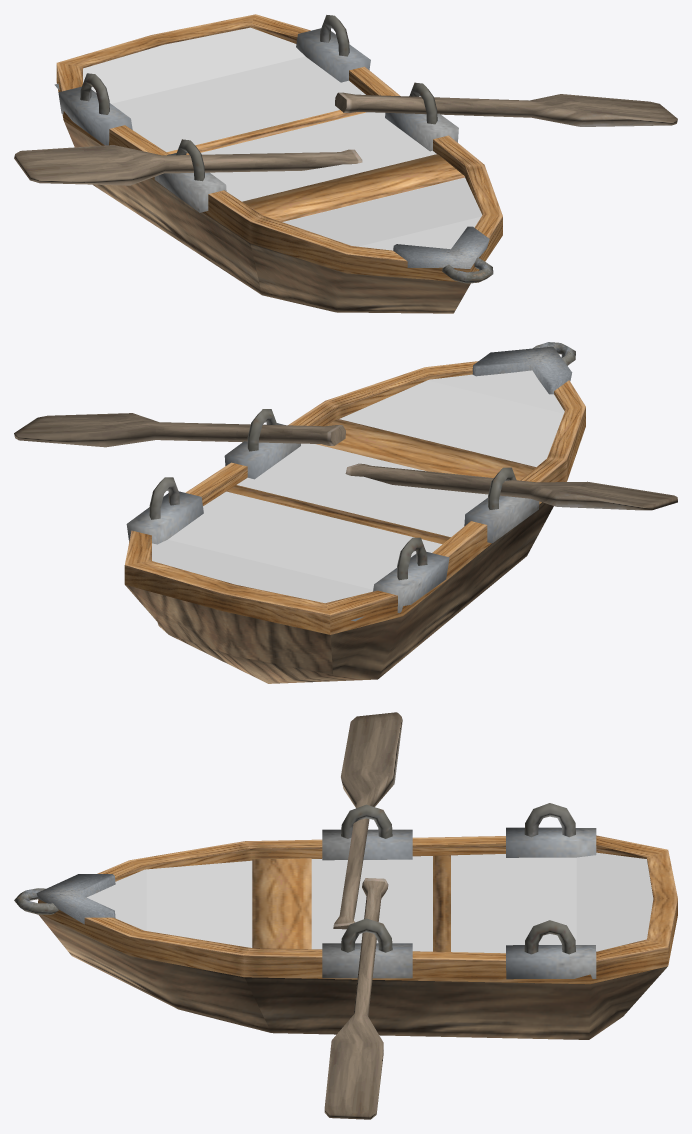
Rendered from RowBoat.fbx.
3 renders of one model, top to bottom at view 1: azimuth 30°, elevation 25°; view 2: azimuth 150°, elevation 25°; view 3: azimuth 270°, elevation 25°, orthographic. The views are drawn at different scales.
Visible parts, largest first — view 1: RowBoat, RowBoat_Depth; view 2: RowBoat, RowBoat_Depth; view 3: RowBoat, RowBoat_Depth.
Part boxes in pixels (box(x1,y1,x2,y2)): RowBoat: box(14, 14, 677, 313); RowBoat_Depth: box(83, 27, 482, 250); RowBoat: box(14, 342, 677, 683); RowBoat_Depth: box(152, 370, 564, 603); RowBoat: box(14, 712, 677, 1119); RowBoat_Depth: box(87, 852, 653, 953).
Bounding box in the file's own units: 484 × 124 × 436.
